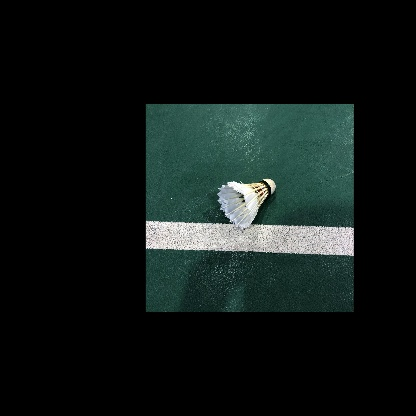ball_single: (217, 178, 276, 229)
